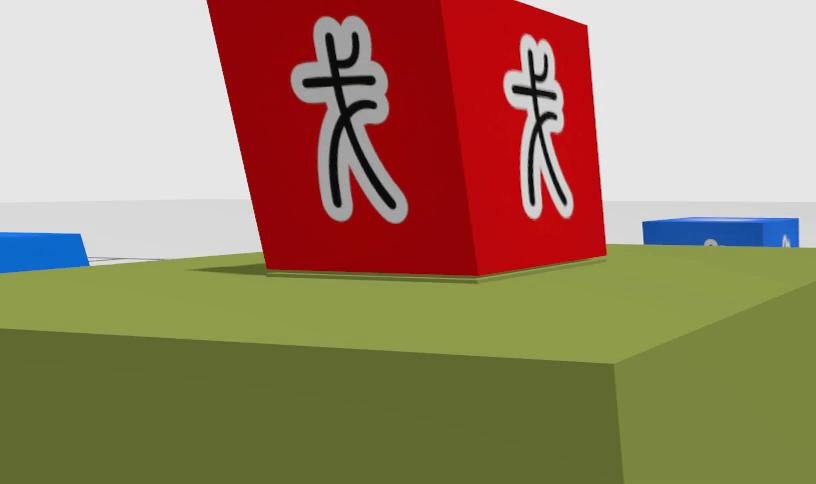KFS_FAKE: (291, 16, 407, 223), (504, 34, 574, 219)
